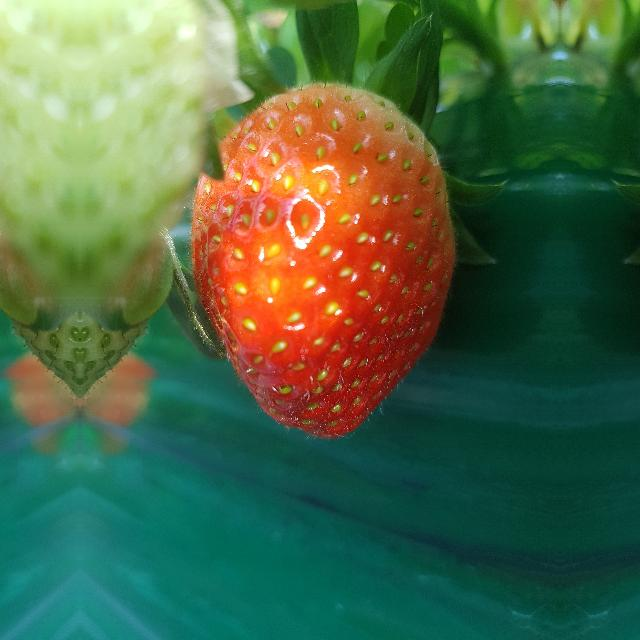Health_100: (190, 80, 456, 438)
